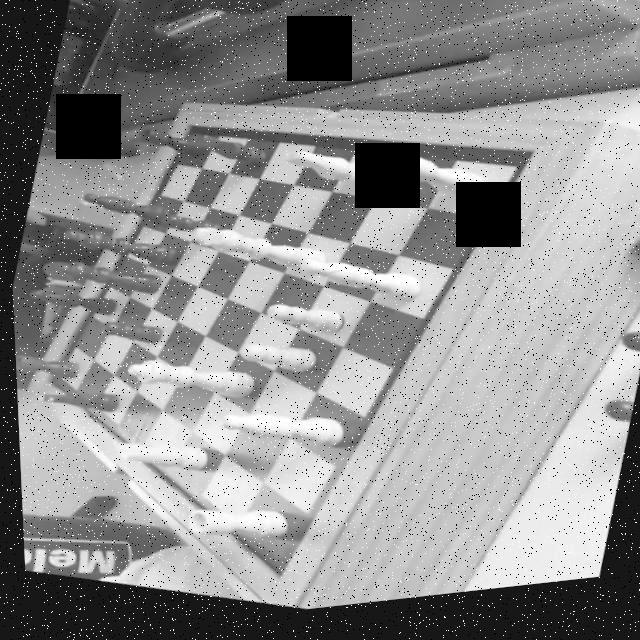chess-table-corners: (501, 150, 542, 188), (30, 369, 58, 394), (172, 120, 196, 140), (261, 571, 283, 590)
